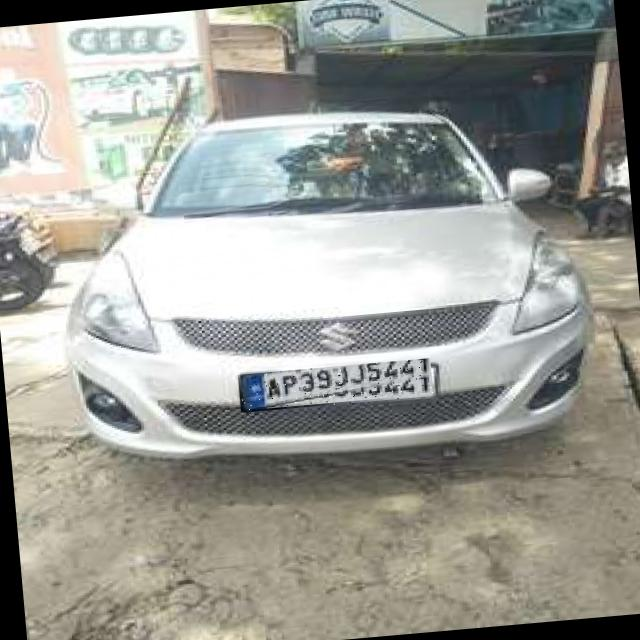Plate: (238, 359, 434, 414)
